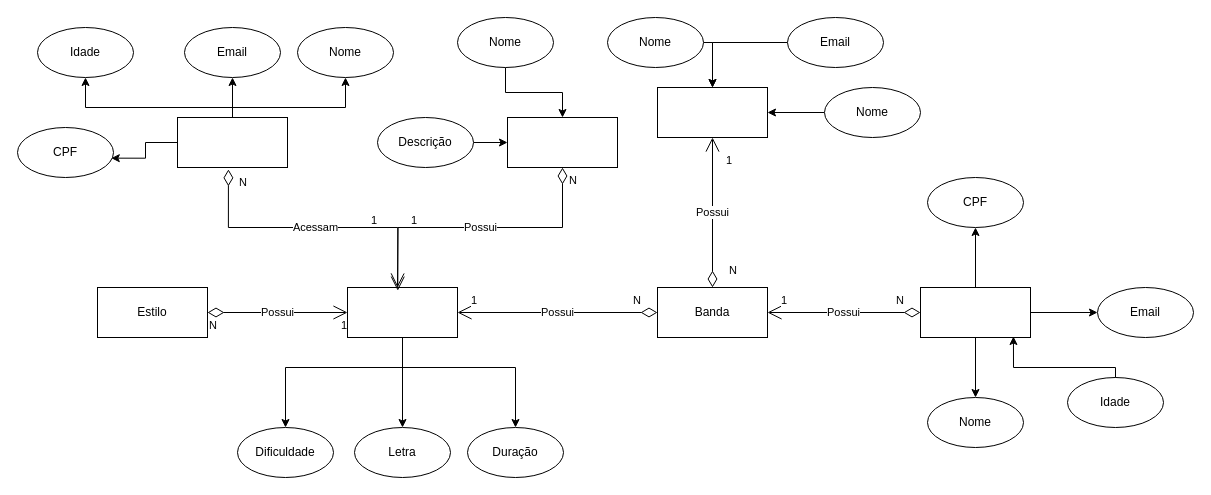
This 1211x495 diagram has some shape labels left out. Here are the shapes that lost their labels. From the top down, the box of each, then its label:
(656, 86, 768, 138): Agencia
(176, 116, 288, 168): Usuário
(506, 116, 618, 168): Instrumento
(346, 286, 458, 338): Musica
(920, 286, 1030, 338): Cantor
